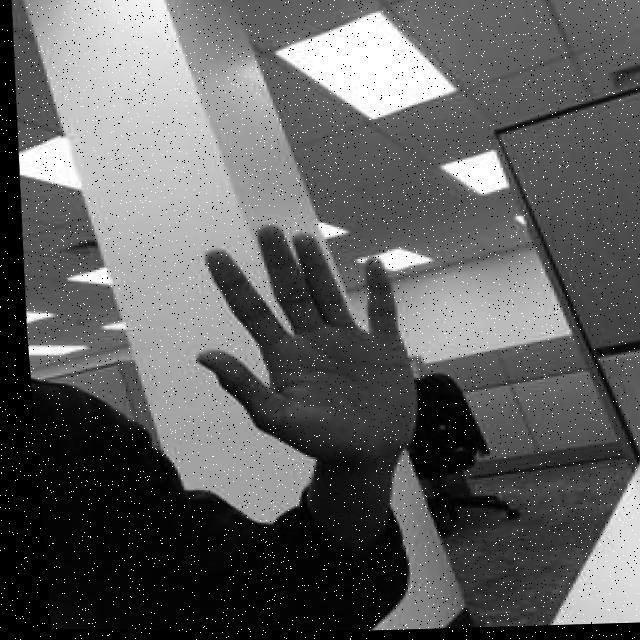no-gloves: (174, 216, 422, 467)
